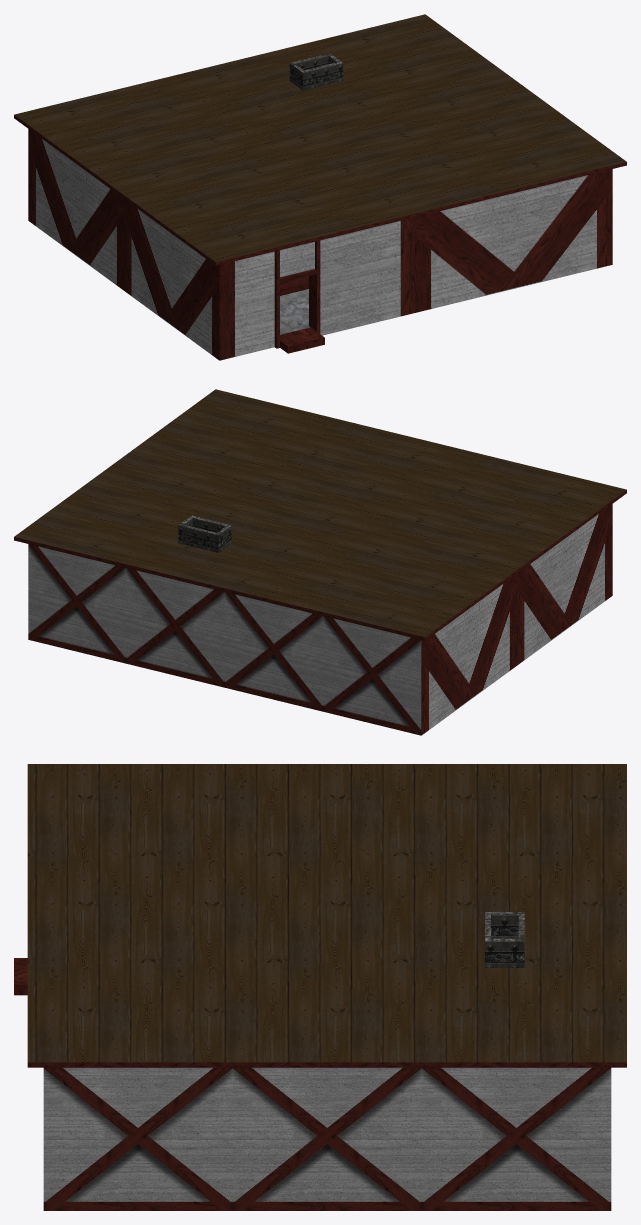
Rendered from blacksmith.gltf.
The picture shows the model from 3 angles, top to bottom: view 1: azimuth 30°, elevation 25°; view 2: azimuth 150°, elevation 25°; view 3: azimuth 270°, elevation 25°; orthographic projection. The views are drawn at different scales.
Visible parts, largest first — view 1: blacksmith; view 2: blacksmith; view 3: blacksmith.
Part boxes in pixels (x1,y1,x2,y2): blacksmith: (14,14,626,360); blacksmith: (14,389,626,735); blacksmith: (14,764,626,1210).
Bounding box in the file's own units: 22.38 × 6.38 × 19.44.
32 materials, 32 textured.
